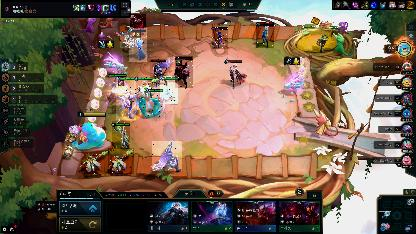1_braum: (175, 56, 193, 88), (130, 14, 146, 28)
1_jax: (108, 148, 134, 174), (81, 150, 109, 174)
1_pantheon: (152, 141, 182, 171), (150, 59, 168, 85)
1_varus: (212, 27, 228, 49)
2_ezreal: (256, 22, 274, 48)
2_gnar: (160, 76, 178, 104)
2_jax: (134, 77, 156, 97)
2_karma: (112, 121, 130, 149)
2_rakan: (224, 60, 244, 88)
2_sett: (116, 78, 136, 120)
2_twitch: (120, 32, 134, 48)
2_yone: (129, 28, 147, 62)
jade: (140, 89, 162, 117)
